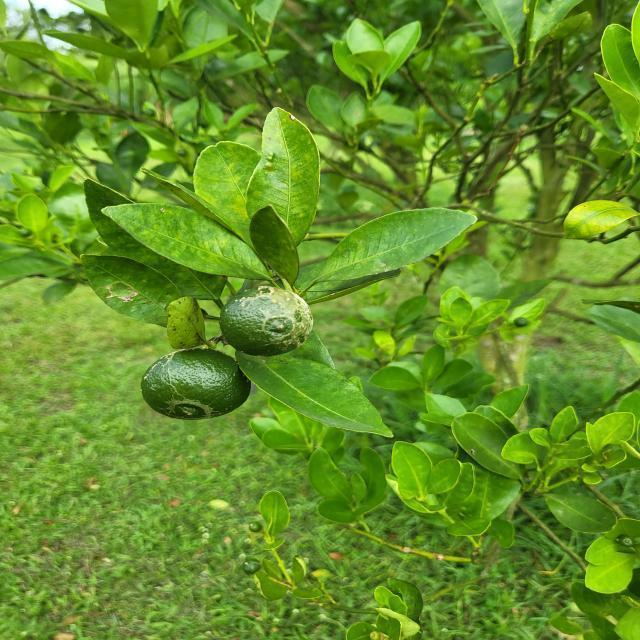thrips: (134, 341, 255, 425), (216, 278, 325, 358)
